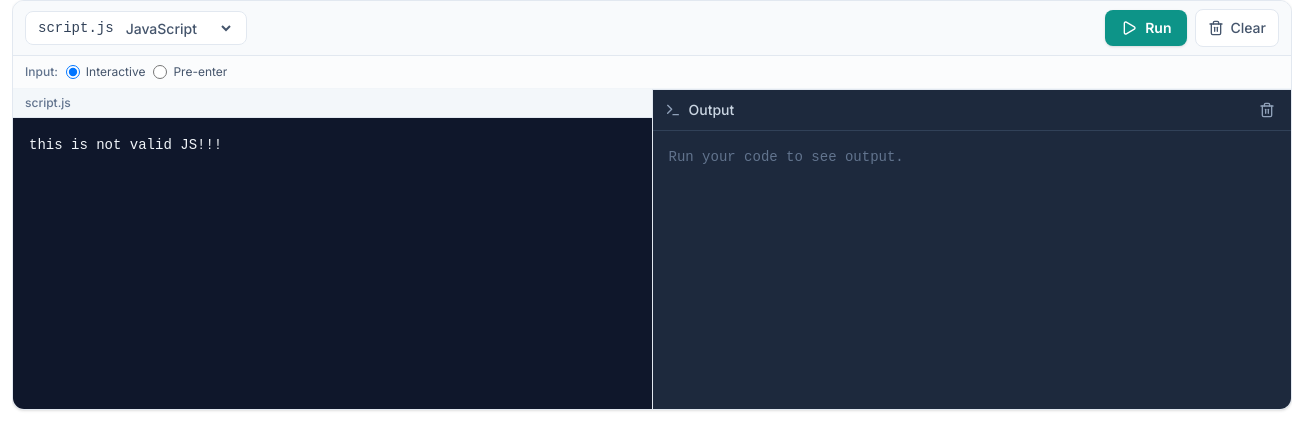
Scenario: CodeBlock › JavaScript execution › shows error output for invalid JavaScript
The image size is (1292, 428).
Click the button "Run" at [1146, 28], box 1105,10 -> 1188,46
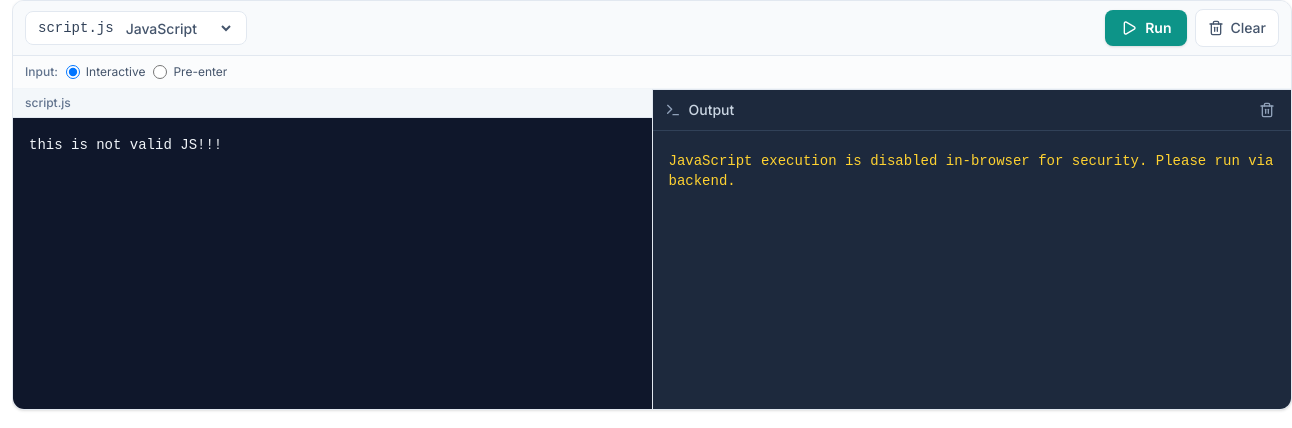
expect the text "Run your code to see output." is gone: met
